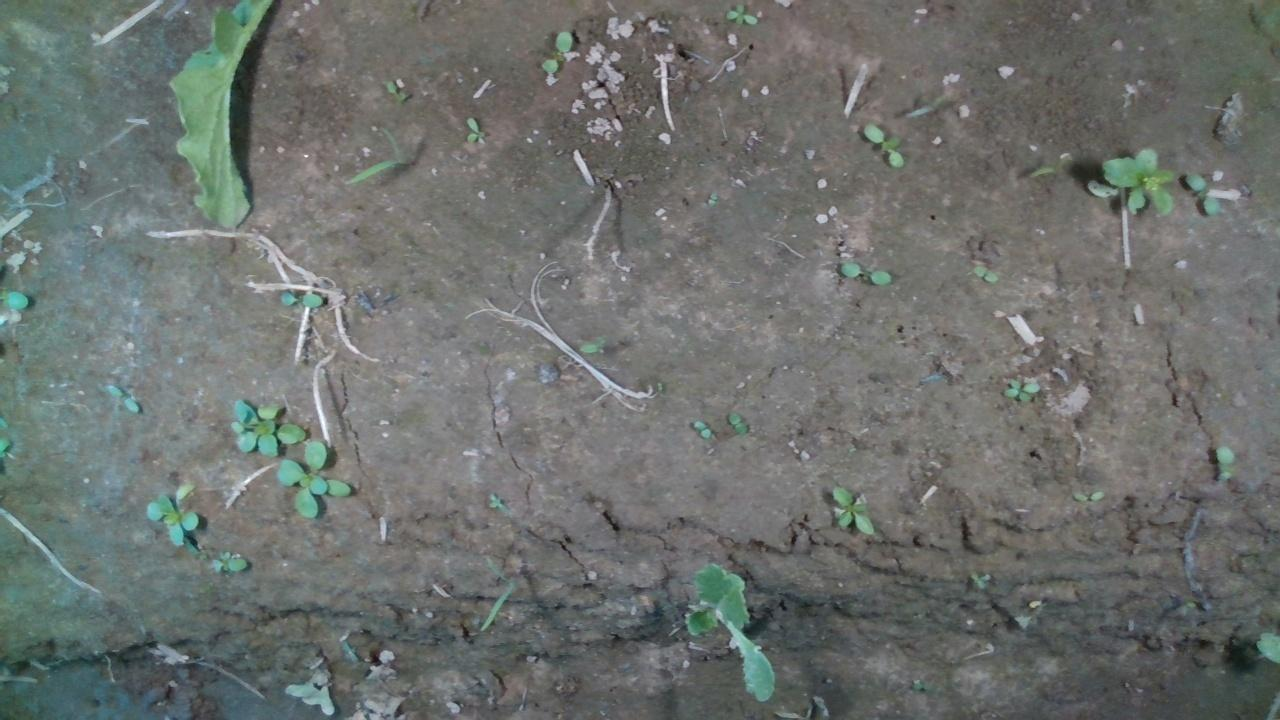weed: (829, 483, 874, 535), (859, 122, 905, 166), (1183, 171, 1221, 217), (541, 28, 573, 72), (839, 260, 892, 285), (206, 548, 247, 572), (1002, 378, 1040, 403), (278, 289, 324, 308), (1213, 443, 1235, 482), (463, 115, 487, 145), (724, 3, 756, 24), (726, 409, 749, 434), (381, 78, 406, 101), (577, 334, 605, 354), (1070, 489, 1106, 503), (971, 264, 998, 281), (690, 417, 711, 438), (967, 571, 991, 587), (486, 491, 505, 509)
